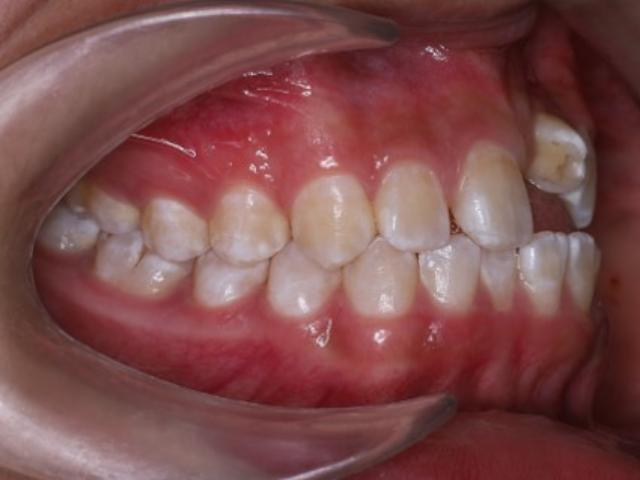canine class III 1/4: (263, 158, 419, 328)
molar class III 3/4: (62, 177, 192, 304)
